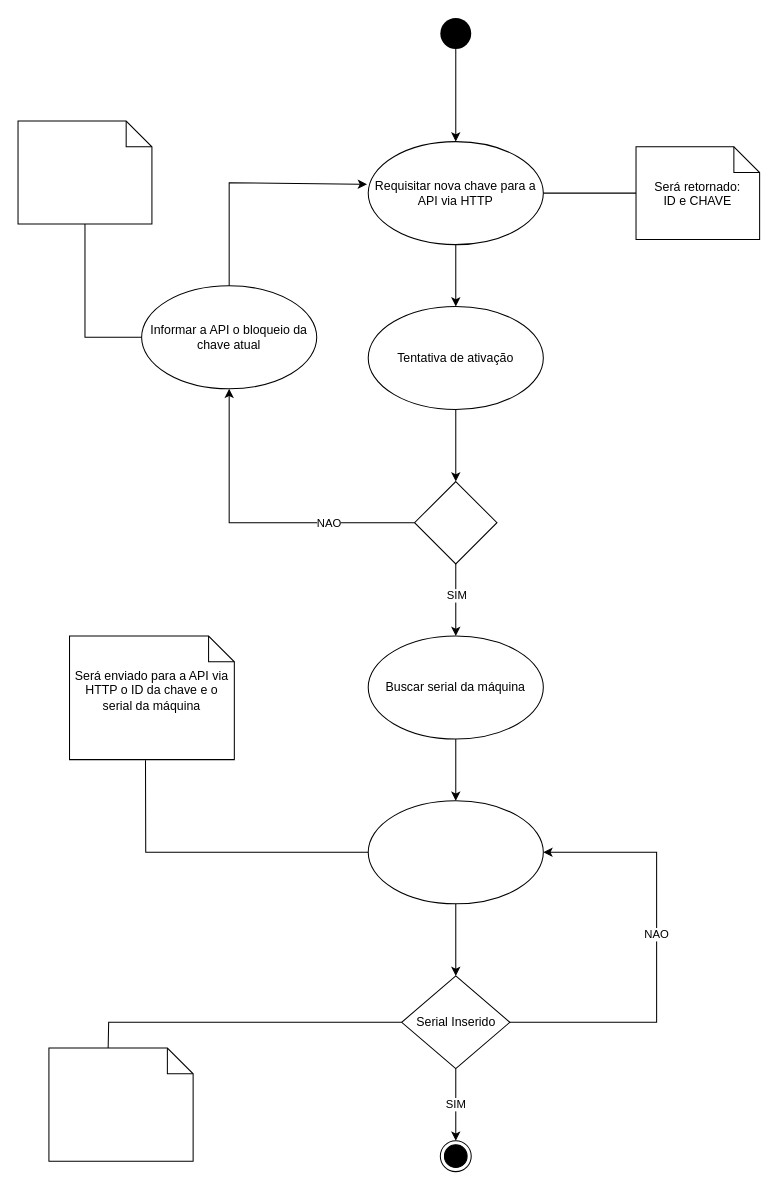
Some shapes in this 778 by 1190 pixel diagram are drawn without their labels. Here are the shapes that lost their labels. From the top down, the box of each, then its label:
(17, 120, 152, 224): Será informado para a API: ID da chave bloqueada
(414, 480, 497, 564): ATIVOU
(367, 800, 543, 904): Informar a API o serial da máquina
(48, 1047, 193, 1161): O sistema vai aguardar a resposta da API sobre a inserção do serial
